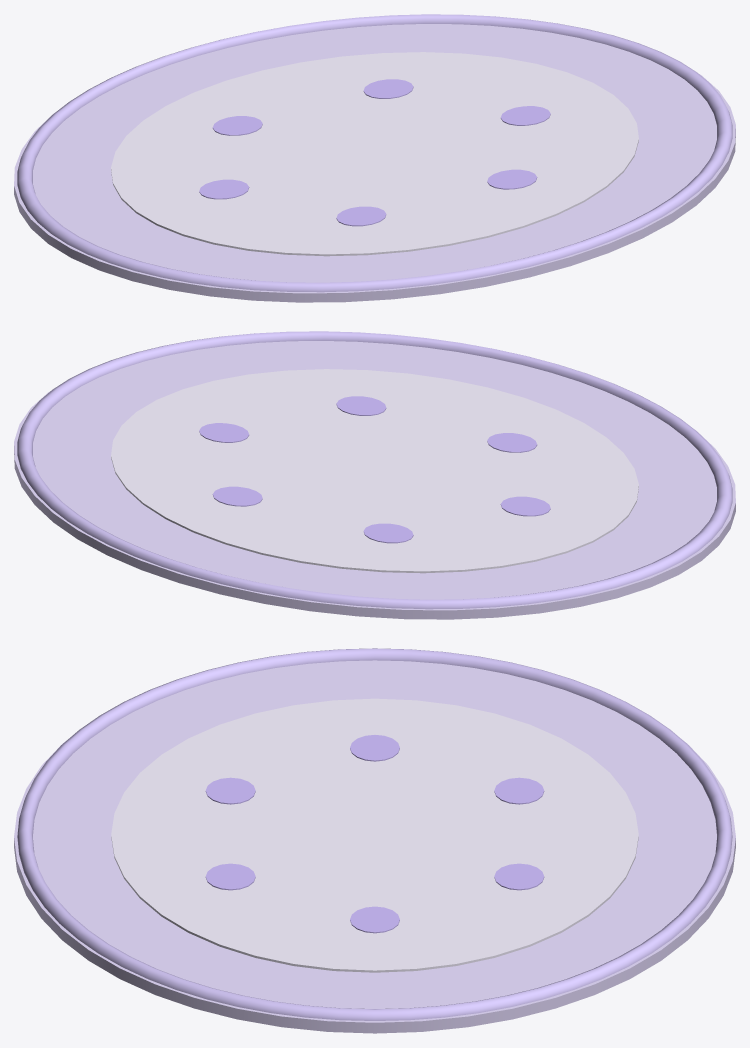
File: bedrug.glb
3 views of the same model, one above another, from view 1: azimuth 30°, elevation 25°; view 2: azimuth 150°, elevation 25°; view 3: azimuth 270°, elevation 25° (orthographic). The views are drawn at different scales.
Size of the model in its own units: 2.6 by 0.06 by 2.13.
